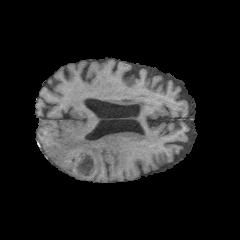glioma: (45, 135, 126, 178)
